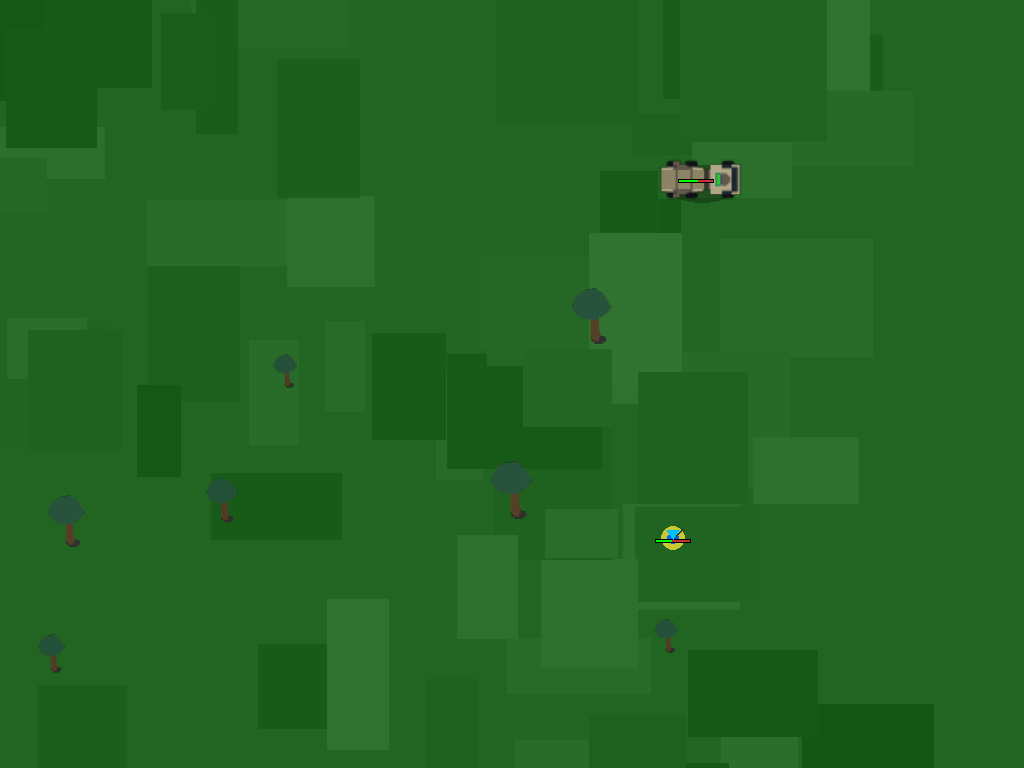ArmoredCar: (660, 142, 732, 214)
Rifleman: (653, 518, 694, 559)
